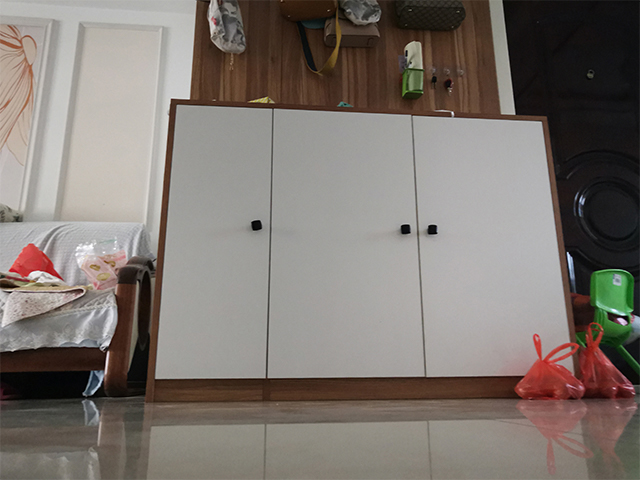cabinet: (143, 99, 564, 405)
sofa: (1, 217, 160, 399)
